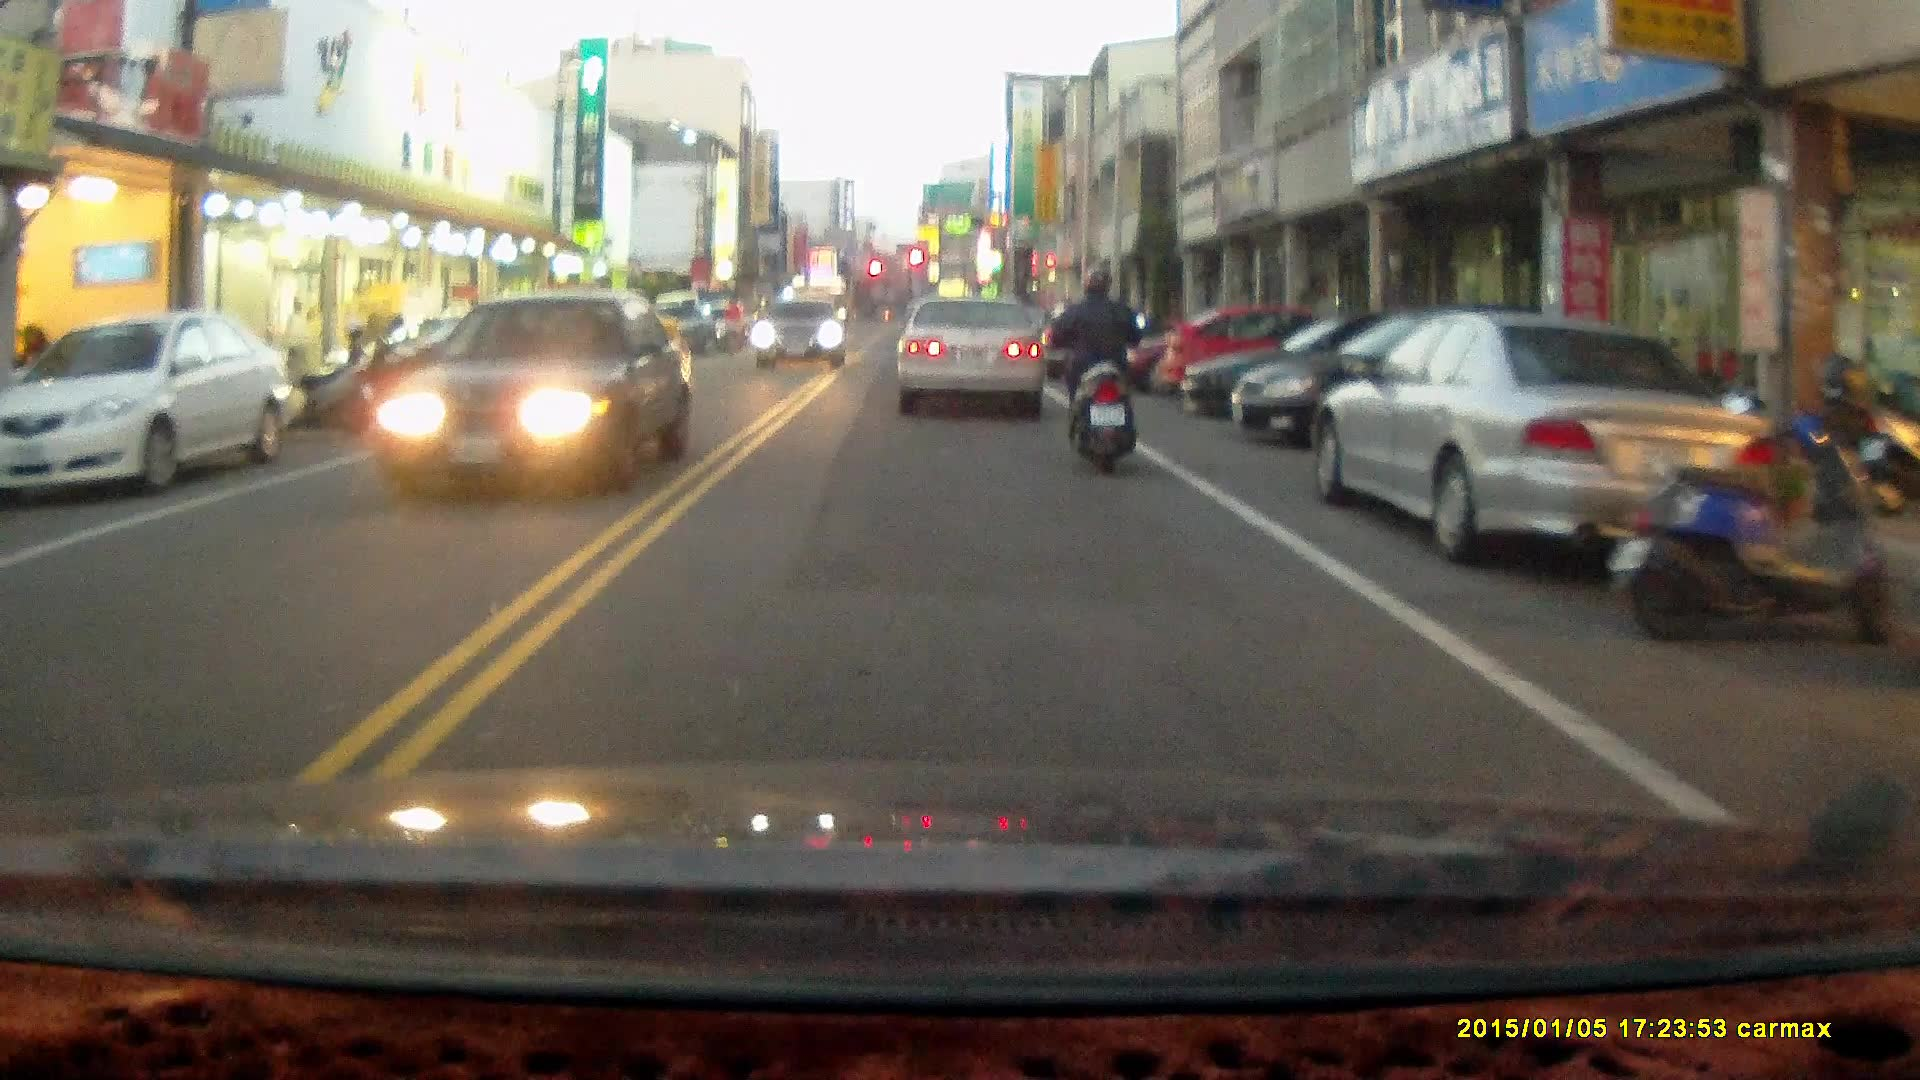pedestrian: (281, 294, 310, 368)
rider: (1047, 257, 1148, 466), (719, 290, 744, 354)
vehicle: (1319, 305, 1777, 564), (377, 290, 698, 499), (3, 308, 310, 501), (1228, 298, 1578, 443), (1176, 308, 1518, 421), (1158, 298, 1409, 397), (897, 293, 1049, 412), (751, 297, 849, 368)
